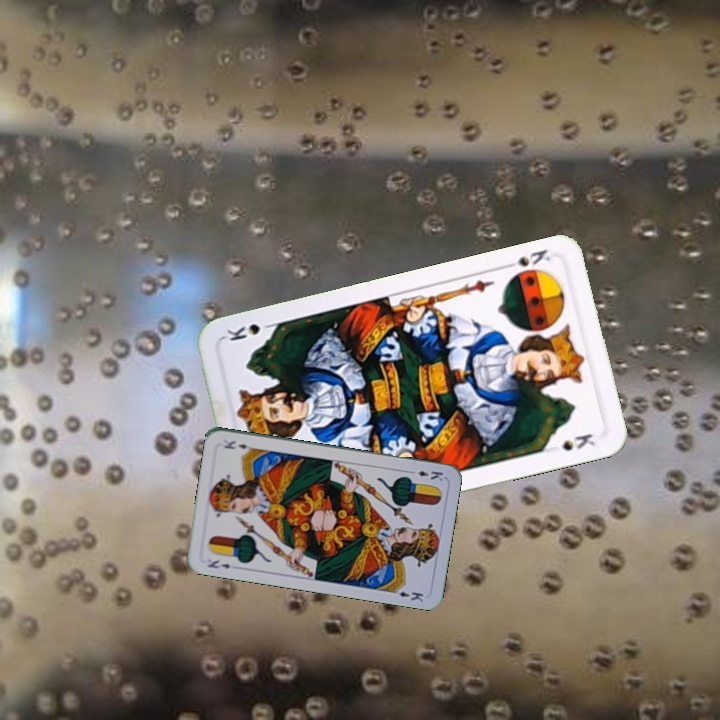EK: (405, 466, 445, 483), (203, 556, 240, 572)
SK: (499, 245, 553, 272)
